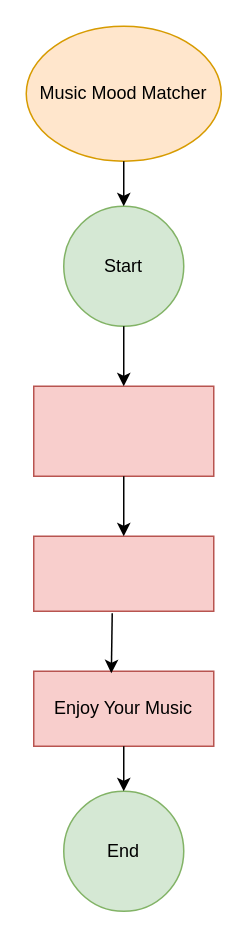
The diagram is 248 pixels wide and 938 high, and some of its shapes have lost their labels. The shapes that lost their labels are listed below. From the top down, each one's box as (x1, y1, x2, y2) in pixels, then its label:
(32, 385, 214, 476): Select your Current Mood
(32, 535, 214, 611): Get the Music
